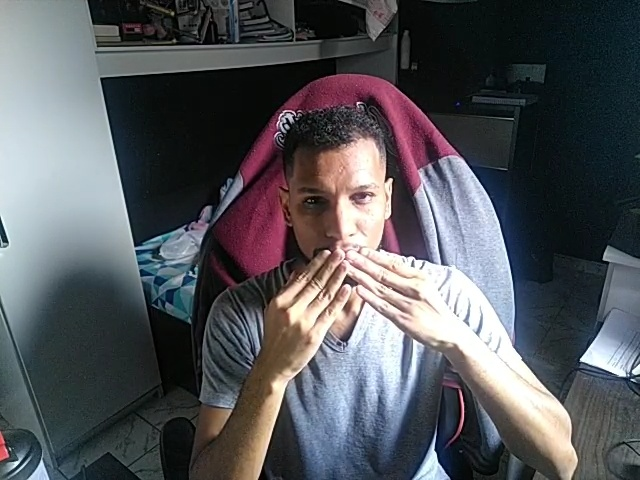obrigado: (254, 243, 447, 354)
